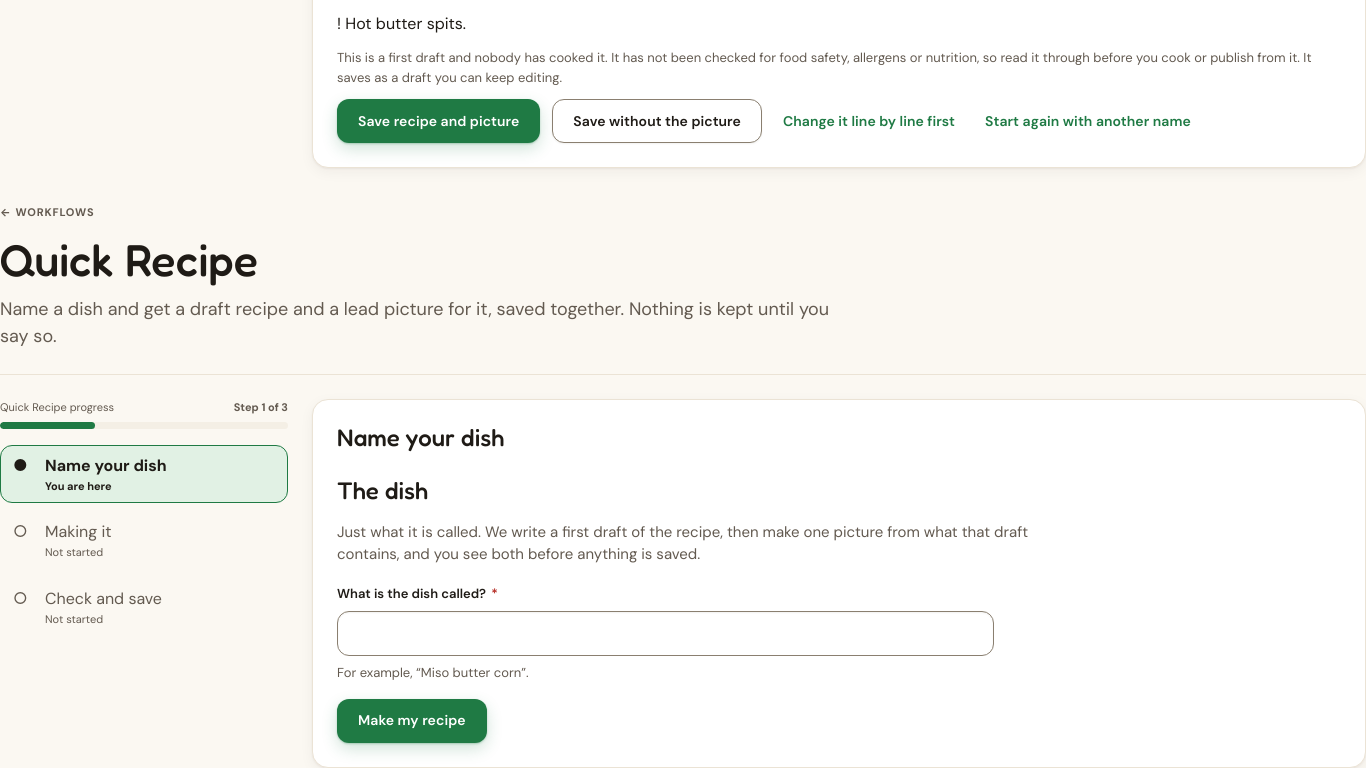
Test: QuickRecipeComponent › saving › creates nothing, and says why, when the draft cannot be accepted
The width and height of the screenshot is (1366, 768).
(page scrolled)
Type "Miso butter corn" into the field with id "cp-quick-recipe-name".
click(665, 633); type("Miso butter corn")  # box left=337, top=611, right=994, bottom=656
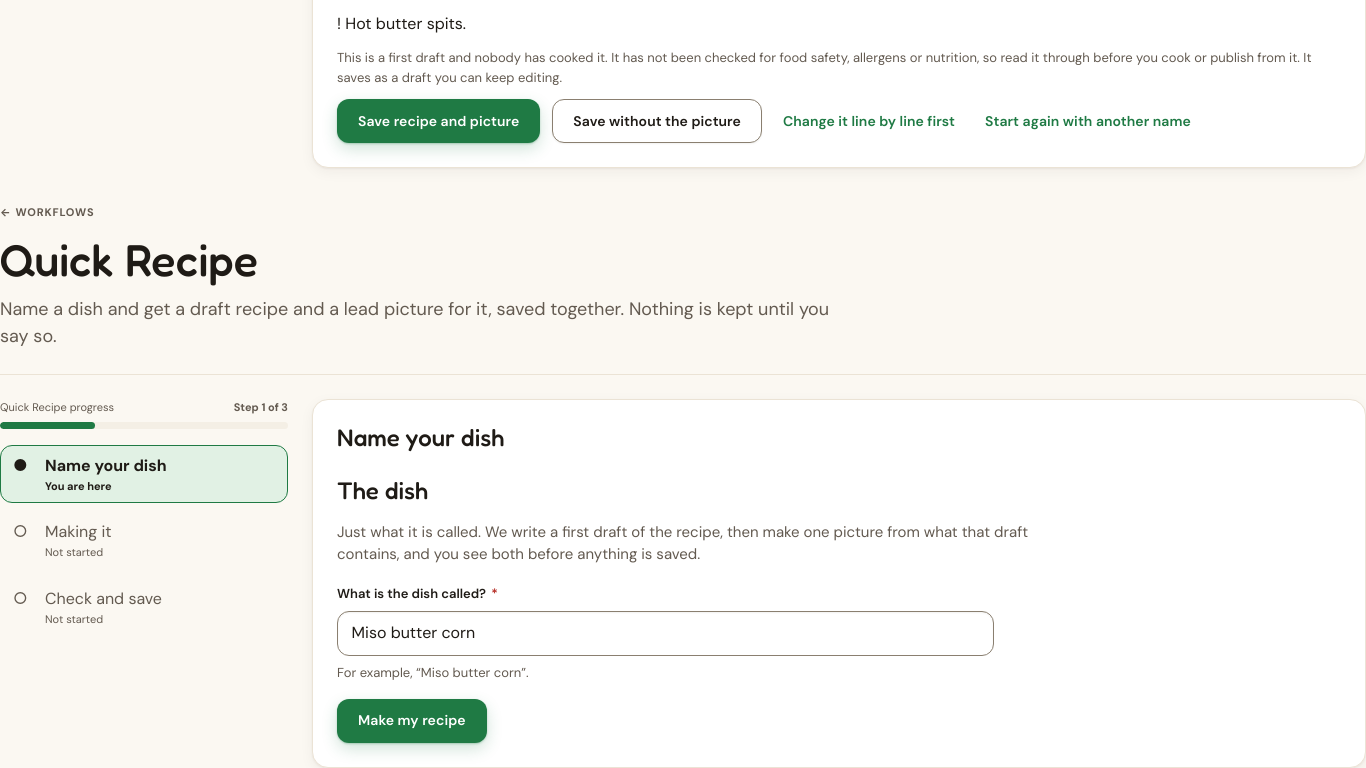
Click the button "Make my recipe".
click(412, 721)  # box left=337, top=699, right=487, bottom=743
(page scrolled)
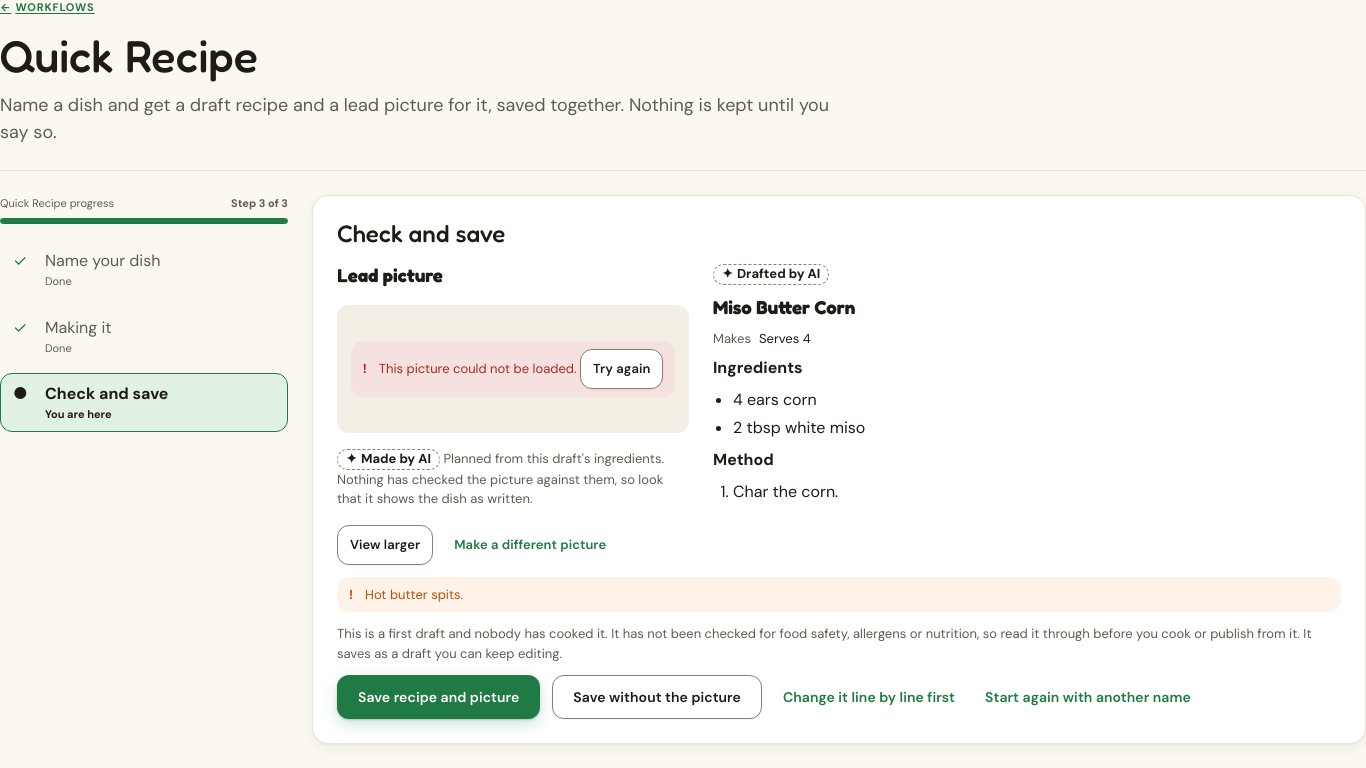
Click the button "Save recipe and picture".
click(439, 697)  # box left=337, top=675, right=540, bottom=719
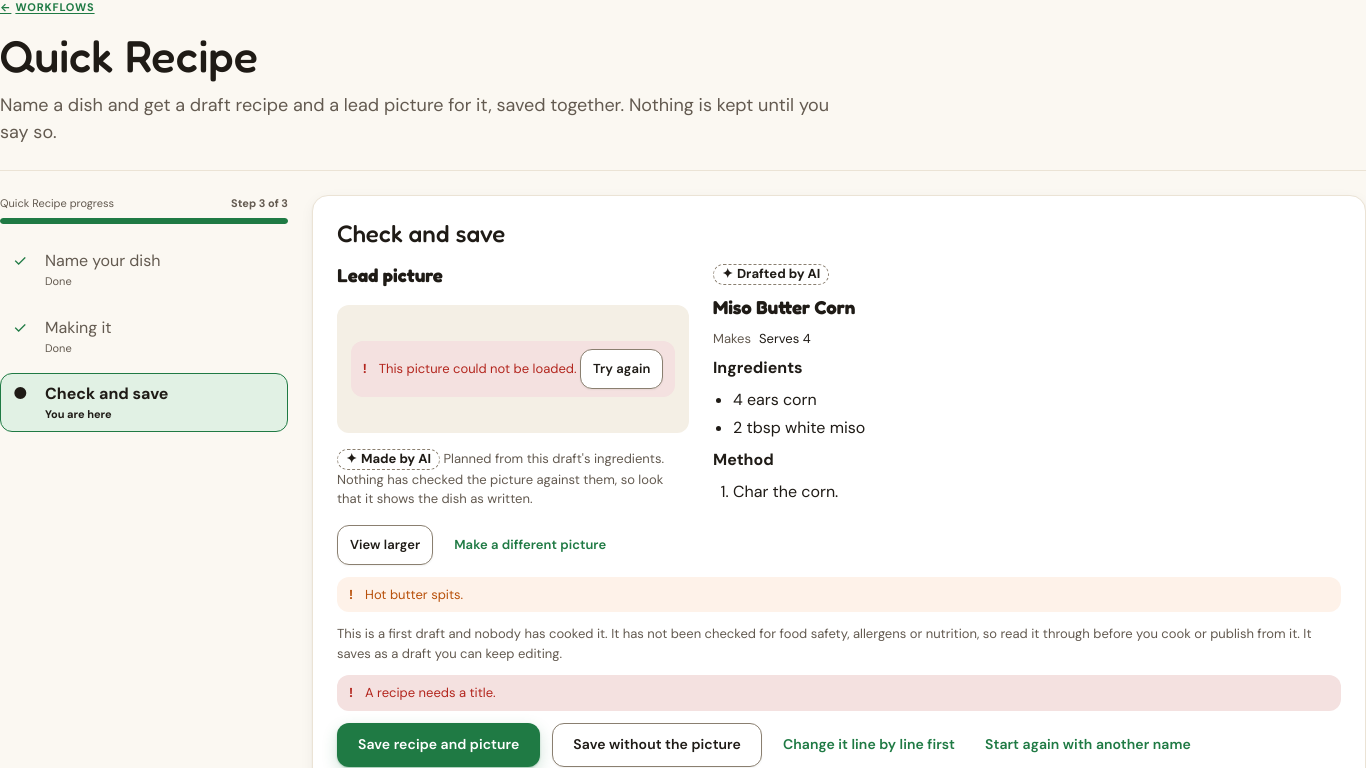
Expected: the message "! A recipe needs a title." is shown, left=337, top=675, right=1341, bottom=711
